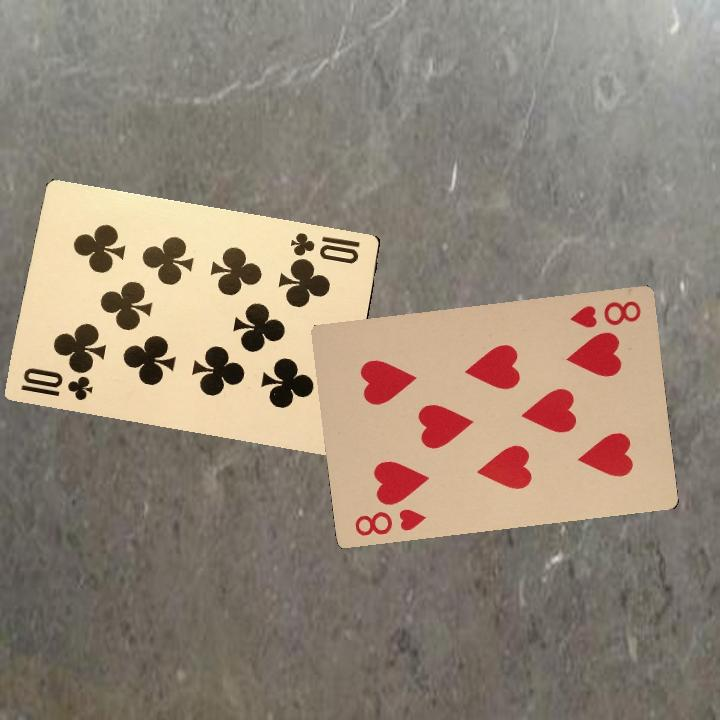10c: (17, 363, 95, 403), (286, 228, 363, 267)
8h: (566, 296, 643, 331), (350, 504, 426, 539)
